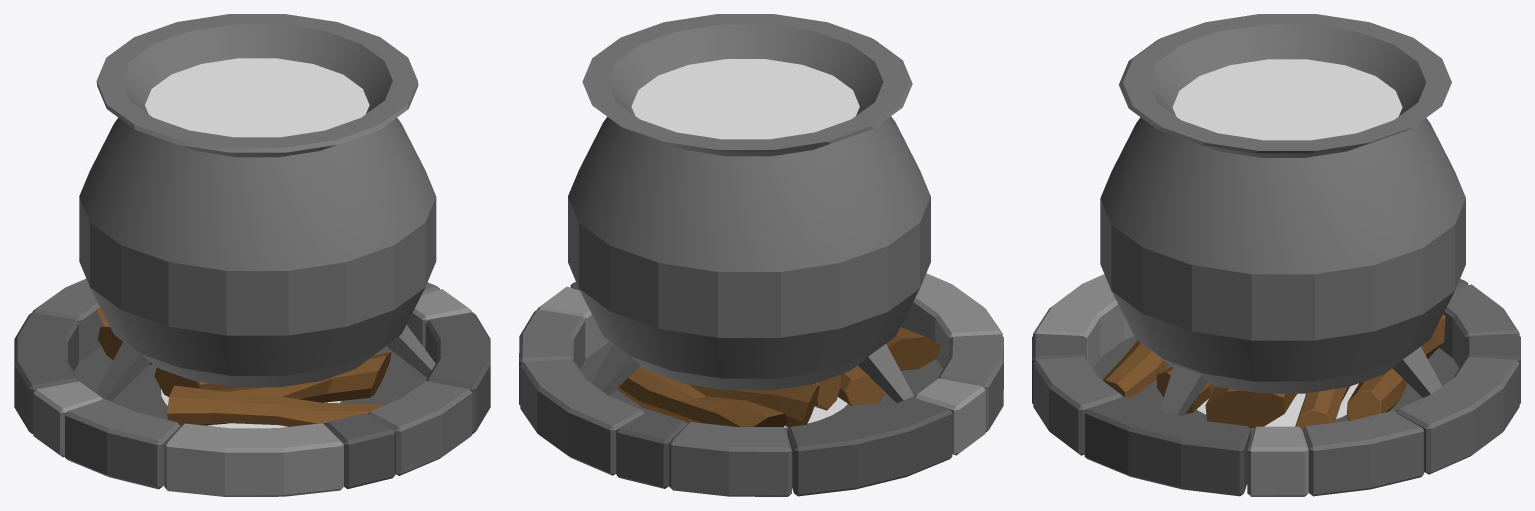
The model's file is Silver-Cocina.fbx.
3 renders of one model, left to right at view 1: azimuth 30°, elevation 25°; view 2: azimuth 150°, elevation 25°; view 3: azimuth 270°, elevation 25°, orthographic. The views are drawn at different scales.
Parts seen in each view (by area): view 1: Cylinder.004; view 2: Cylinder.004; view 3: Cylinder.004.
Boxes of the visible parts, x1,y1,x2,y2 form: Cylinder.004: [14, 14, 490, 496]; Cylinder.004: [519, 14, 1003, 496]; Cylinder.004: [1032, 14, 1520, 496].
Bounding box in the file's own units: 342 × 249 × 342.
